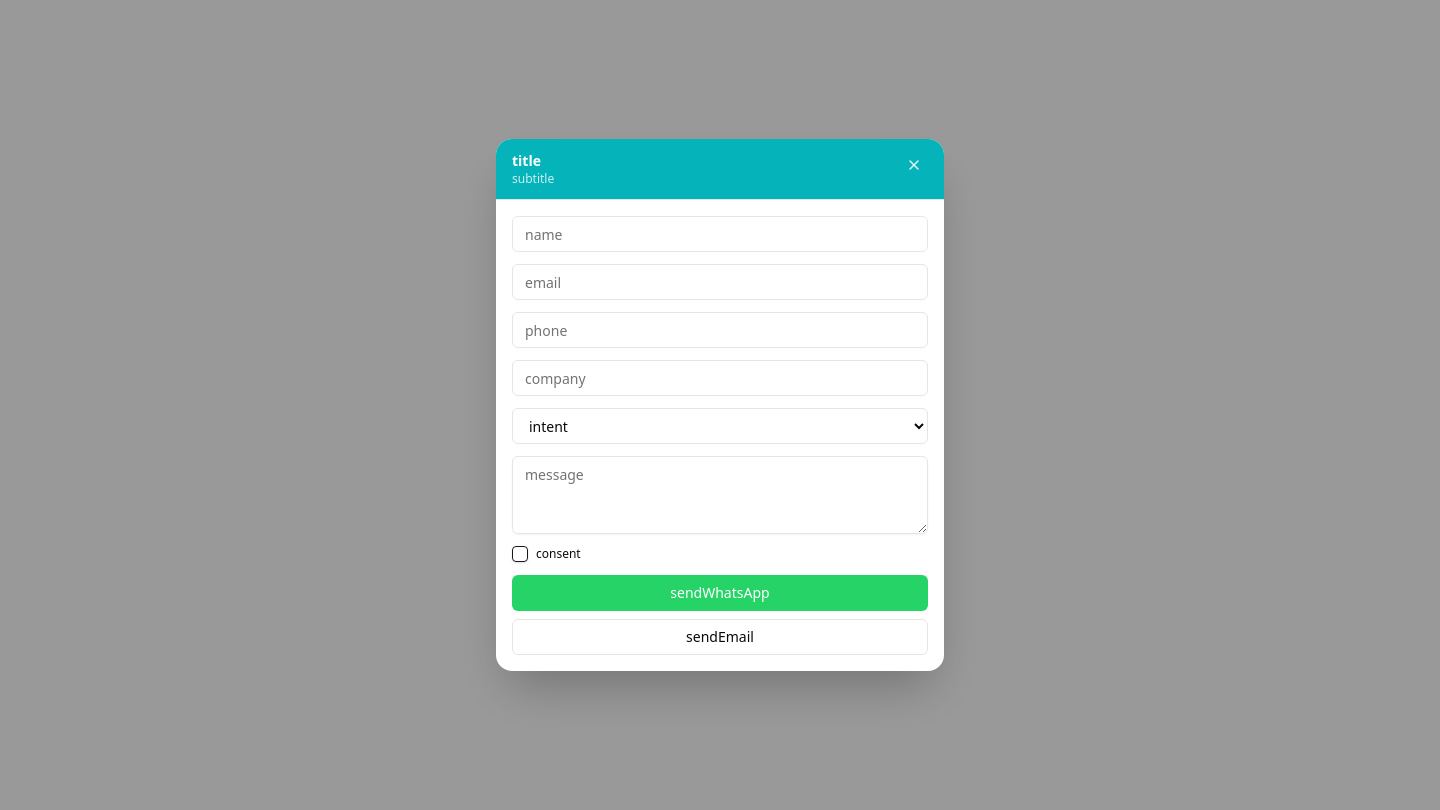
Test: LeadCaptureForm — OpenAI pixel wiring › shows the plain confirmation after success
Type "lead@example.com" into the field with placeholder "email".
click(720, 282); type("lead@example.com")  # box left=512, top=264, right=928, bottom=300
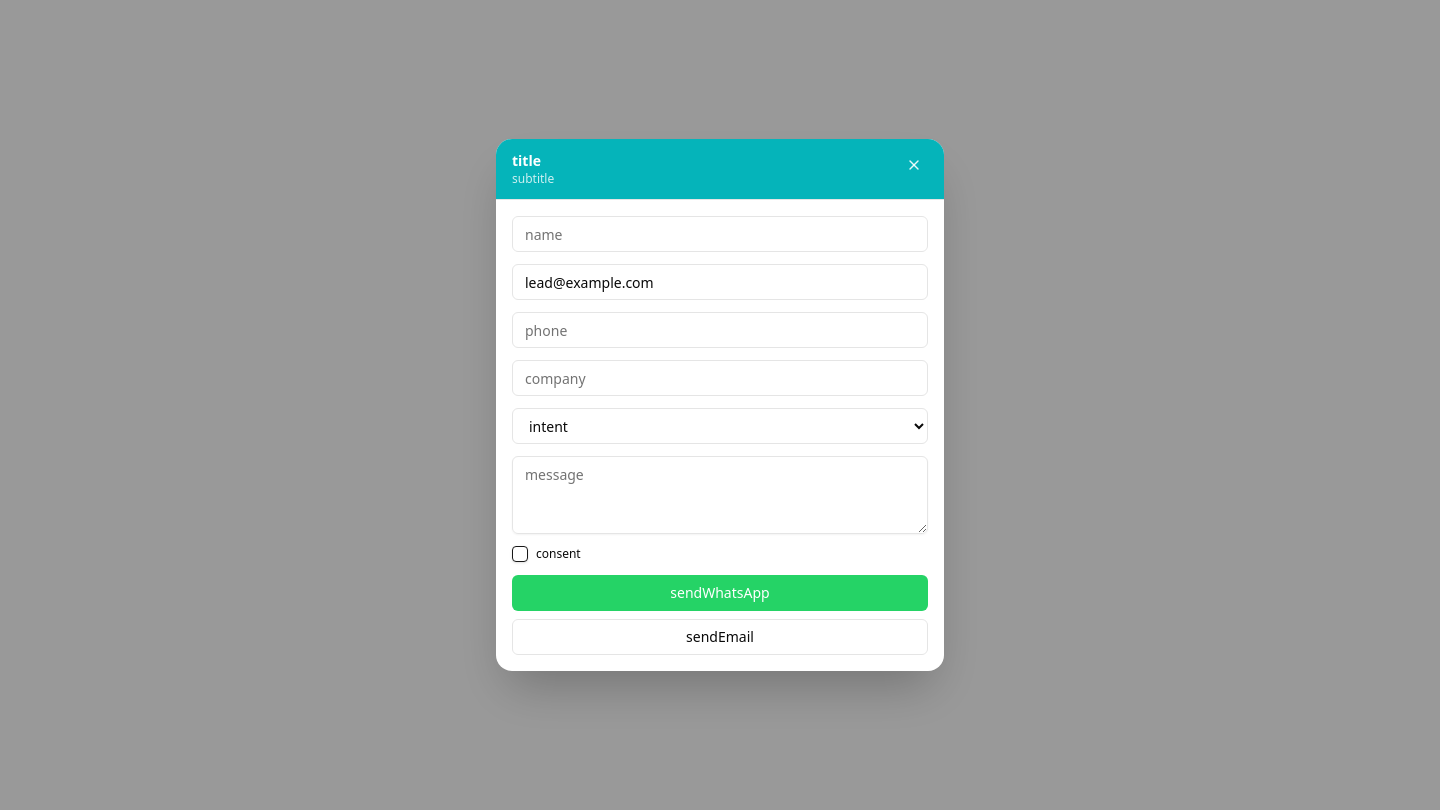
Click the checkbox.
click(520, 554)  # box left=512, top=546, right=528, bottom=562
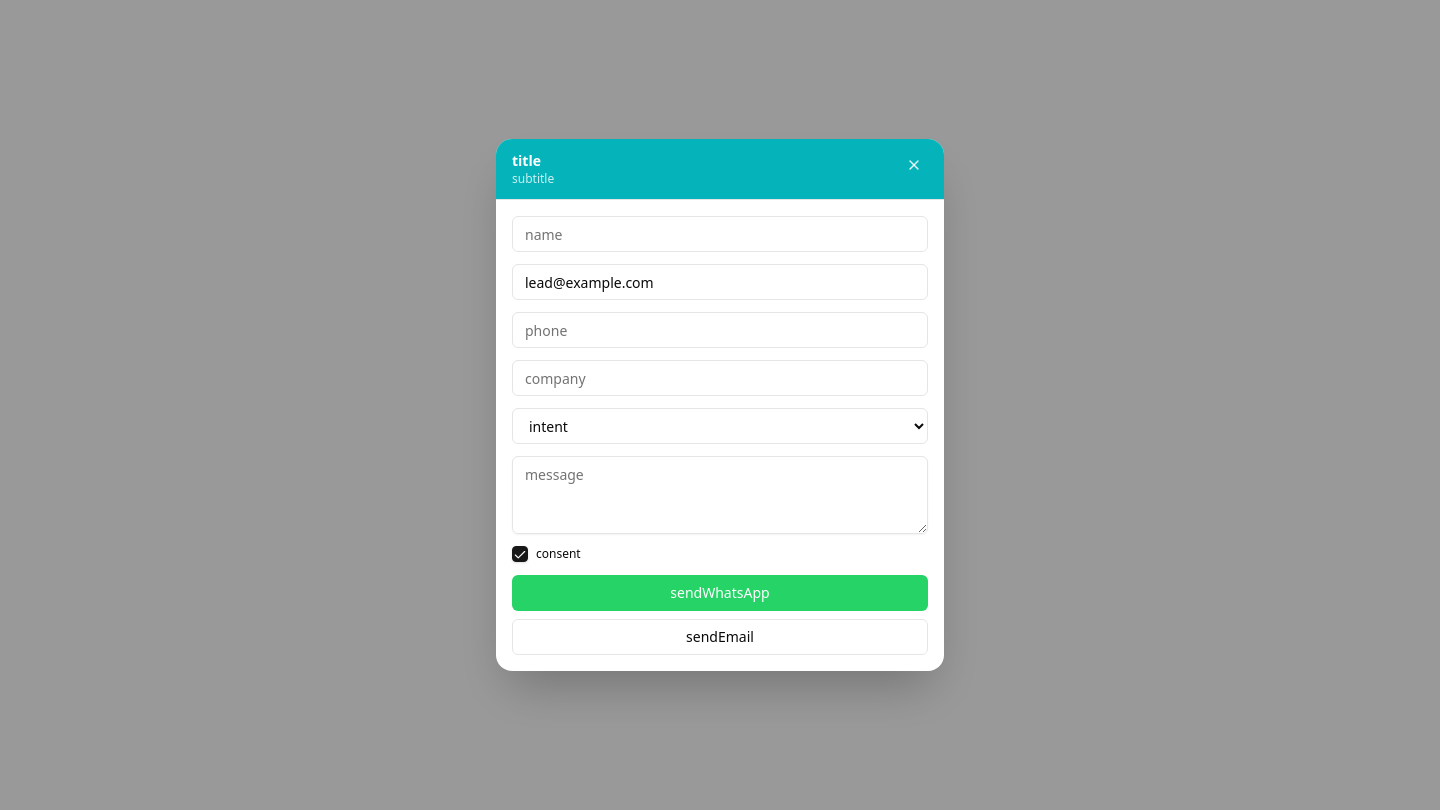
Click the button "sendWhatsApp".
click(720, 593)  # box left=512, top=575, right=928, bottom=611
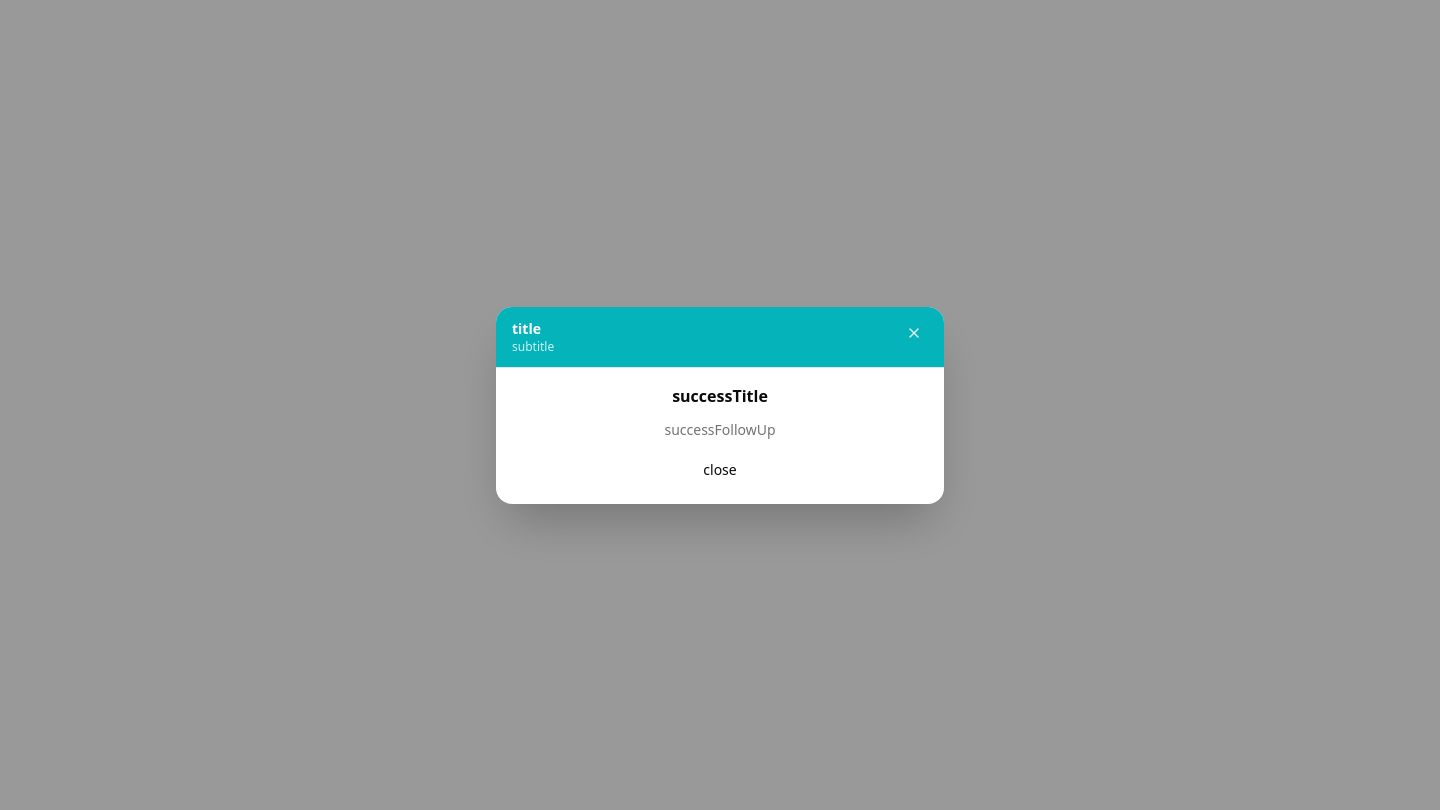
Check: the heading "successTitle" is shown, box left=672, top=384, right=768, bottom=406
Check: the button "sendWhatsApp" is gone
